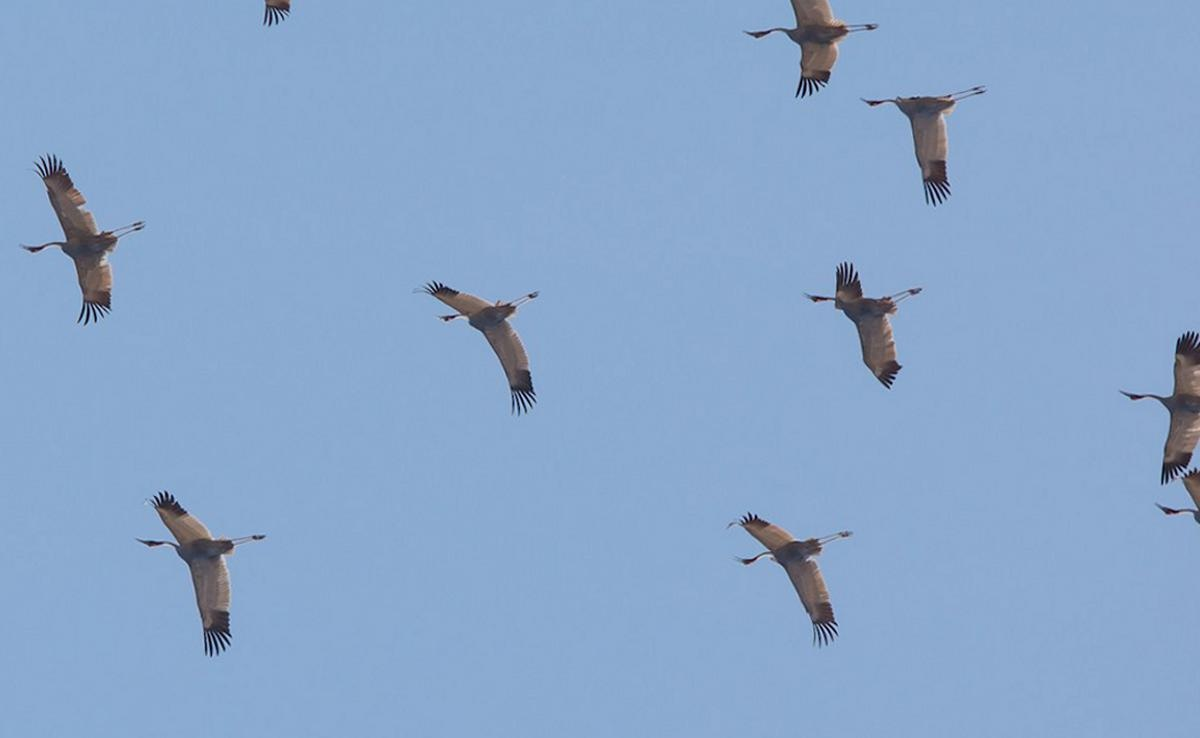crane: (133, 480, 277, 665), (405, 264, 569, 419), (15, 146, 150, 332), (797, 250, 937, 402), (728, 491, 857, 652), (863, 82, 994, 213), (736, 4, 887, 94), (1123, 321, 1200, 491)
